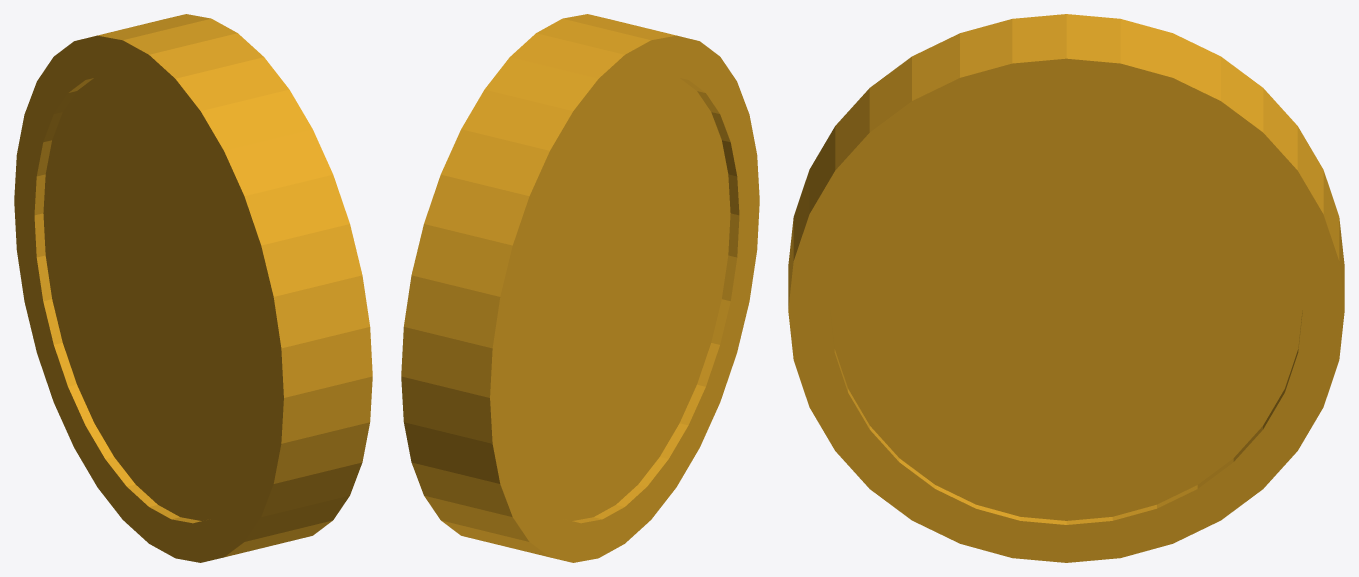
Rendered from coin.glb.
3 renders of one model, left to right at view 1: azimuth 30°, elevation 25°; view 2: azimuth 150°, elevation 25°; view 3: azimuth 270°, elevation 25°, orthographic. The views are drawn at different scales.
Visible parts, largest first — view 1: Cylinder; view 2: Cylinder; view 3: Cylinder.
Boxes of the visible parts, <box> form: Cylinder: <box>14,14,372,562</box>; Cylinder: <box>401,14,759,562</box>; Cylinder: <box>788,14,1344,562</box>.
Size of the model in its own units: 0.3802 by 2 by 2.
